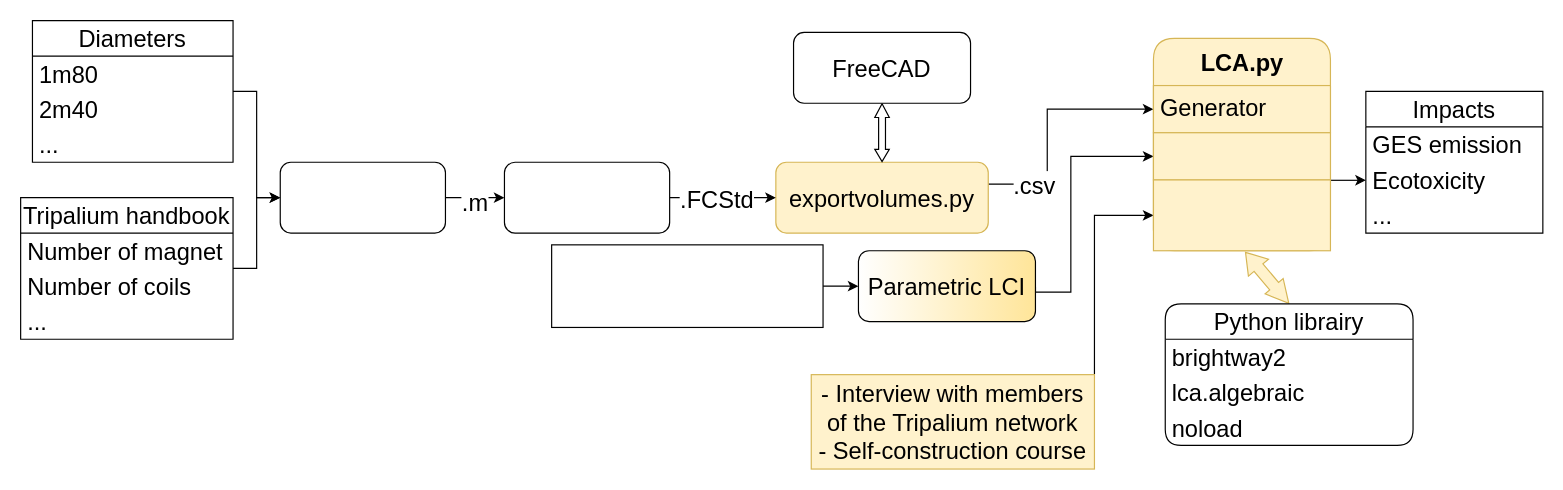
This 1563x490 diagram has some shape labels left out. Each missing label, with the centre of its shape:
- Tripalimum handbook - Prévost et al. inventory: (x=686, y=285)
EoL and maintenance: (x=1241, y=215)
OpenAFPM CAD Core: (x=586, y=197)
OpenAFPM.m: (x=362, y=197)
Structure: (x=1241, y=156)
